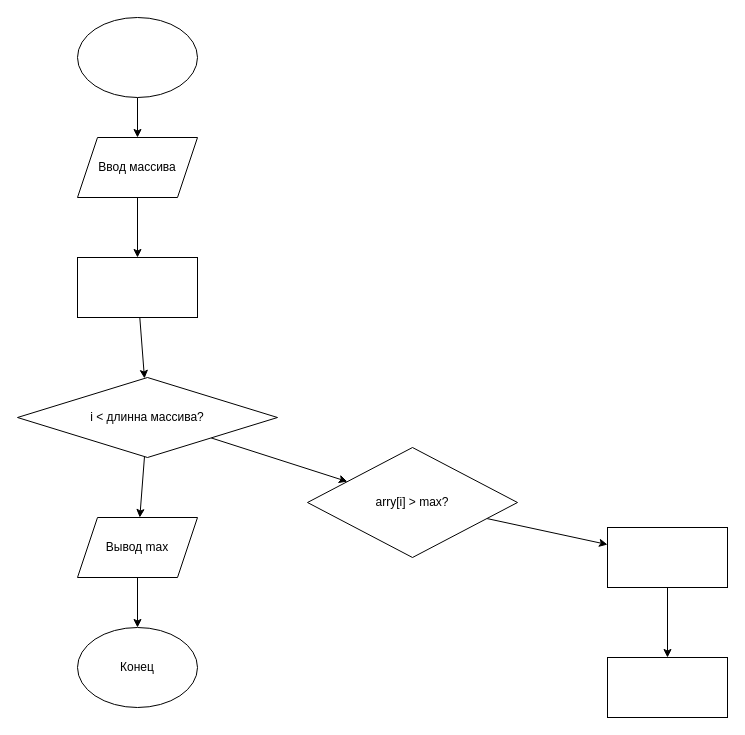
The diagram is 745 pixels wide and 735 high, and some of its shapes have lost their labels. Each missing label, with the centre of its shape:
i = 1: the point at 137,287
max = arry[i]: the point at 667,557
Начало: the point at 137,57
